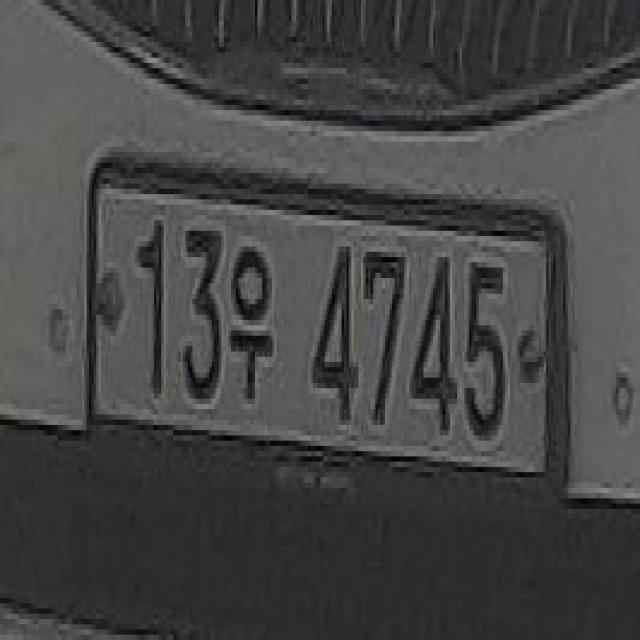1: (130, 205, 171, 409)
3: (173, 220, 231, 420)
4: (303, 231, 363, 456), (409, 236, 462, 446)
5: (460, 242, 517, 456)
7: (361, 220, 414, 446)
license_plate: (82, 152, 568, 514)
u: (229, 231, 279, 409)
